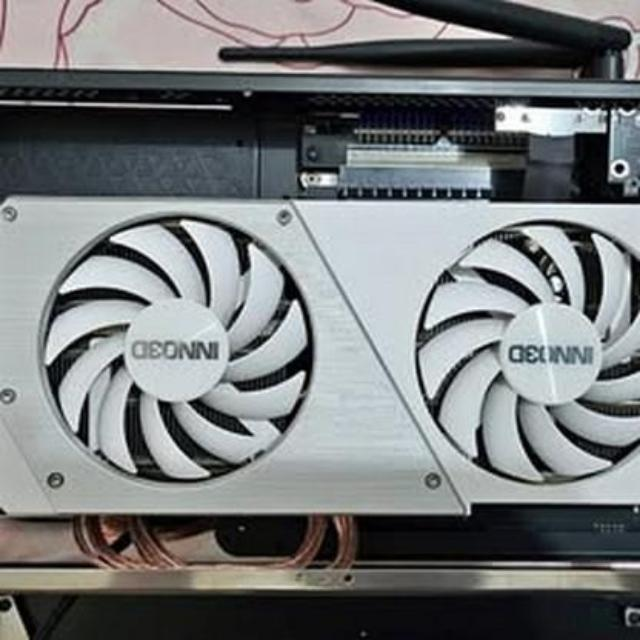GPU: (0, 190, 640, 538)
